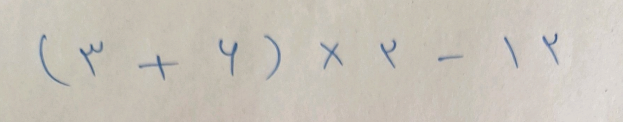character: (38, 31, 72, 90), (138, 54, 181, 82), (261, 31, 283, 82), (78, 41, 108, 78), (217, 36, 240, 78), (318, 40, 345, 72), (501, 34, 521, 73), (540, 32, 562, 67), (379, 39, 400, 71), (434, 51, 467, 66)
